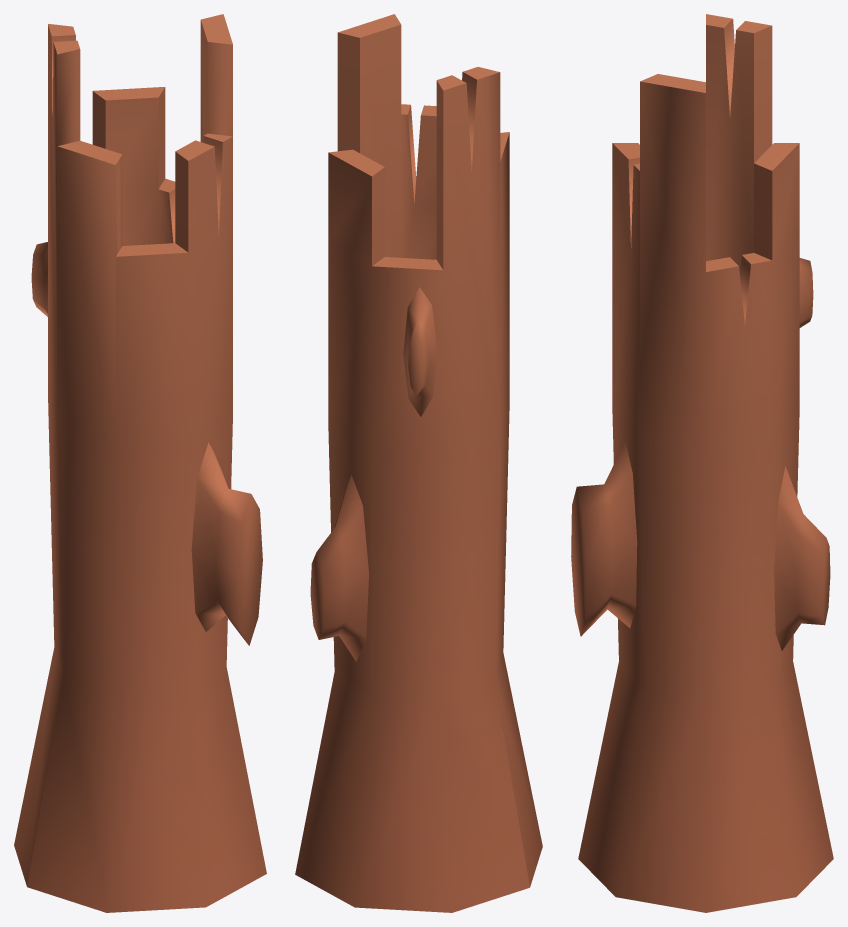
The model's file is trunk.010_lev2.glb.
The picture shows the model from 3 angles, left to right: view 1: azimuth 30°, elevation 25°; view 2: azimuth 150°, elevation 25°; view 3: azimuth 270°, elevation 25°; orthographic projection. The views are drawn at different scales.
Visible parts, largest first — view 1: trunk.010_lev2; view 2: trunk.010_lev2; view 3: trunk.010_lev2.
Part boxes in pixels (<box>): trunk.010_lev2: <box>14,14,266,912</box>; trunk.010_lev2: <box>295,14,542,912</box>; trunk.010_lev2: <box>571,14,833,912</box>.
Bounding box in the file's own units: 6.47 × 22.5 × 6.65.
Materials: 1 (1 with a texture image).
